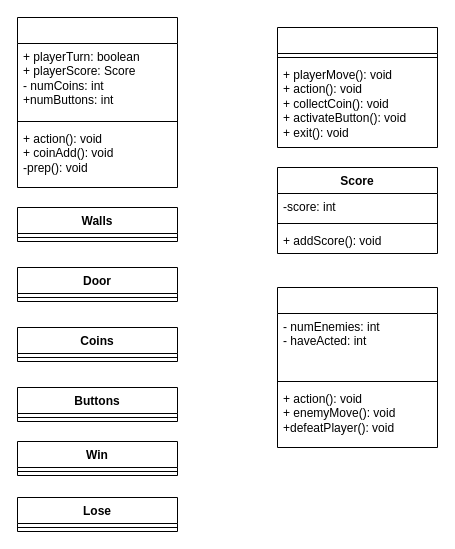
This 455x549 diagram has some shape labels left out. Each missing label, with the box of its shape:
Adventurer: (276, 26, 438, 148)
Dungeon: (16, 16, 178, 188)
Monster: (276, 286, 438, 448)
